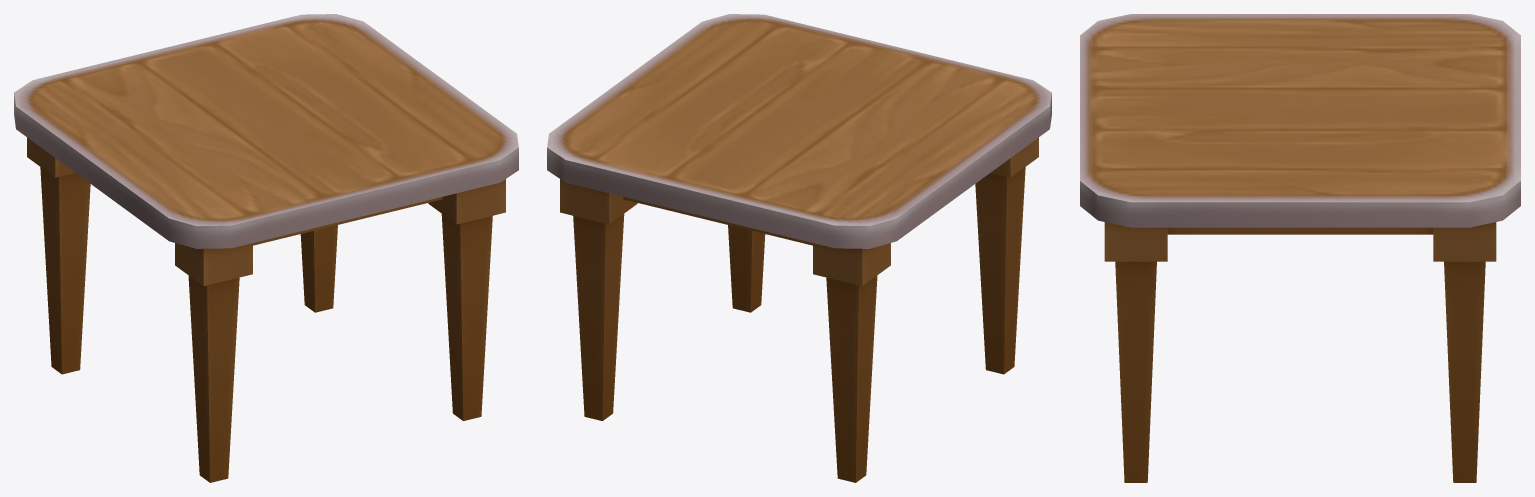
Rendered from Table.FBX.
3 renders of one model, left to right at view 1: azimuth 30°, elevation 25°; view 2: azimuth 150°, elevation 25°; view 3: azimuth 270°, elevation 25°, orthographic. The views are drawn at different scales.
Visible parts, largest first — view 1: Table; view 2: Table; view 3: Table.
Boxes of the visible parts, left/top/right/bottom form: Table: left=14, top=14, right=518, bottom=482; Table: left=547, top=14, right=1051, bottom=482; Table: left=1080, top=14, right=1520, bottom=482.
Size of the model in its own units: 115 by 85.49 by 113.
